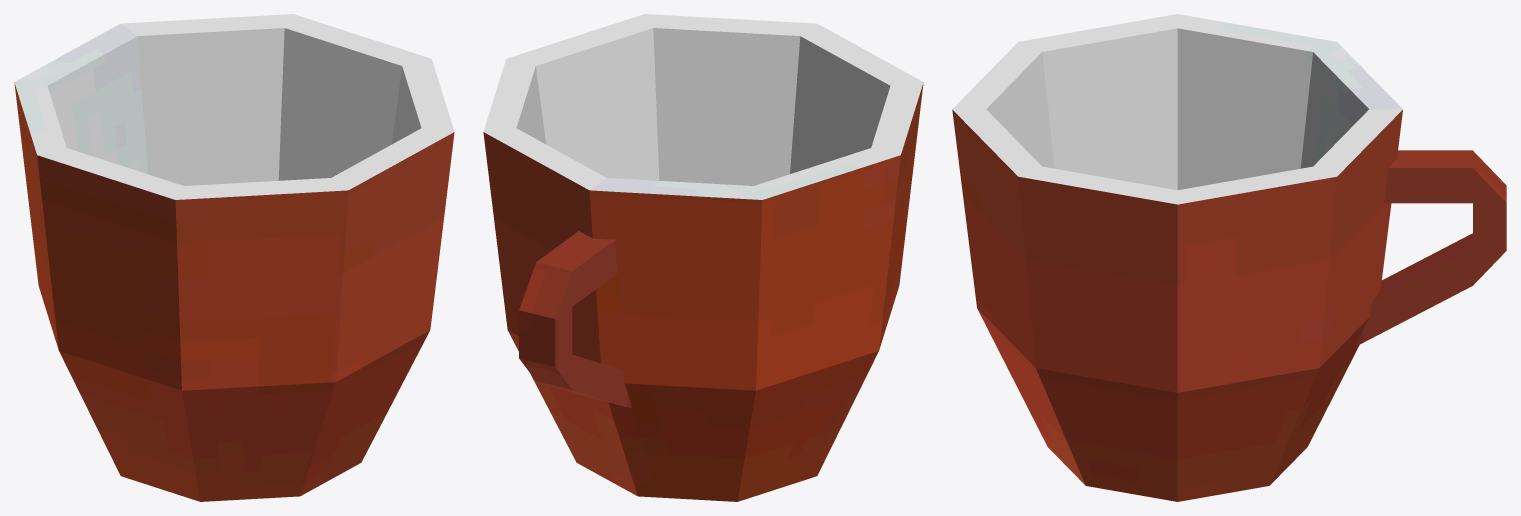
File: cup2.glb
3 views of the same model, side by side, from view 1: azimuth 30°, elevation 25°; view 2: azimuth 150°, elevation 25°; view 3: azimuth 270°, elevation 25° (orthographic).
Parts seen in each view (by area): view 1: cup2; view 2: cup2; view 3: cup2.
Part boxes in pixels (left/top/right/bottom): cup2: left=14, top=14, right=454, bottom=501; cup2: left=483, top=14, right=923, bottom=501; cup2: left=952, top=14, right=1506, bottom=501.
Size of the model in its own units: 0.1154 by 0.0954 by 0.1419.
1 material, 1 textured.
